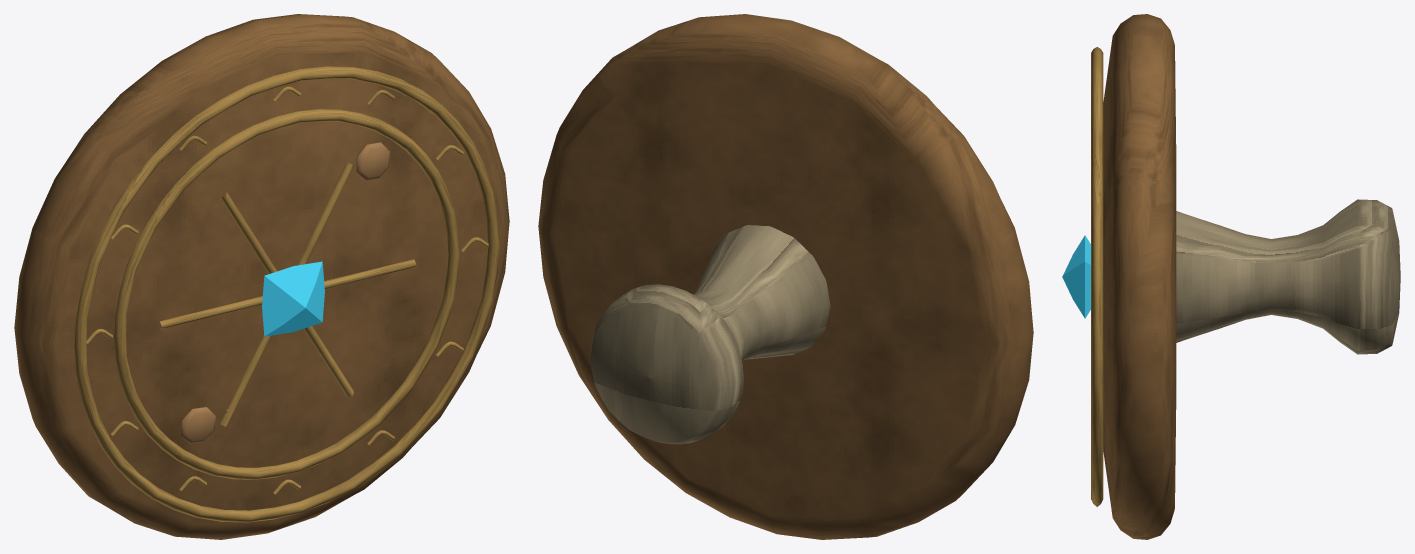
Rendered from ceremonial-seal.lod1.glb.
The picture shows the model from 3 angles, left to right: view 1: azimuth 30°, elevation 25°; view 2: azimuth 150°, elevation 25°; view 3: azimuth 270°, elevation 25°; orthographic projection. The views are drawn at different scales.
Visible parts, largest first — view 1: bronze / cast bronze with patina, brass / polished brass furniture, crystal / faceted crystal, peened pin; view 2: bronze / cast bronze with patina, horn / polished horn and bone; view 3: bronze / cast bronze with patina, horn / polished horn and bone, brass / polished brass furniture, crystal / faceted crystal.
Boxes of the visible parts, left/top/right/bottom form: bronze / cast bronze with patina: left=14, top=14, right=509, bottom=539; brass / polished brass furniture: left=74, top=66, right=499, bottom=522; crystal / faceted crystal: left=262, top=261, right=324, bottom=336; peened pin: left=180, top=142, right=389, bottom=443; bronze / cast bronze with patina: left=538, top=14, right=1033, bottom=539; horn / polished horn and bone: left=590, top=225, right=830, bottom=444; bronze / cast bronze with patina: left=1103, top=14, right=1176, bottom=539; horn / polished horn and bone: left=1176, top=199, right=1400, bottom=354; brass / polished brass furniture: left=1091, top=47, right=1103, bottom=506; crystal / faceted crystal: left=1062, top=235, right=1090, bottom=318.
Bounding box in the file's own units: 0.3053 × 0.3053 × 0.1963.
5 materials, 3 textured.
